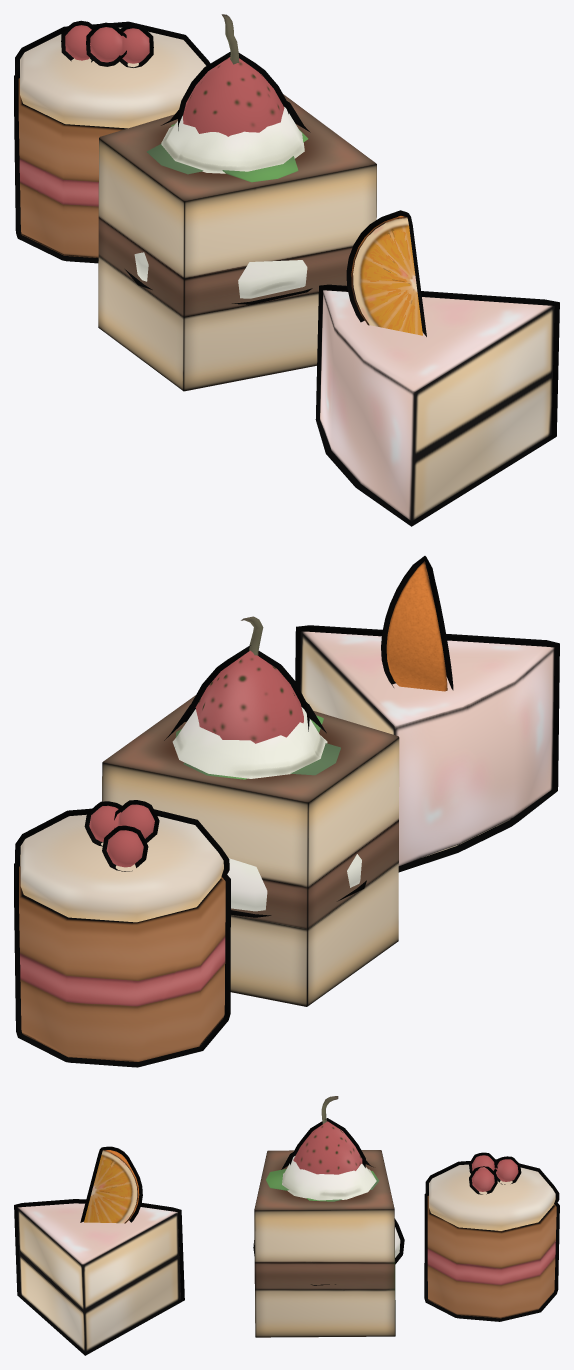
Rendered from Pastelito1.glb.
3 views of the same model, one above another, from view 1: azimuth 30°, elevation 25°; view 2: azimuth 150°, elevation 25°; view 3: azimuth 270°, elevation 25° (orthographic). The views are drawn at different scales.
Visible parts, largest first — view 1: Cake_strawberry_Cake_strawberry_0, Cake_orange_Outline_0, Souffle.001_Souffle_0, Cupcake_Outline_0; view 2: Cake_strawberry_Cake_strawberry_0, Souffle.001_Souffle_0, Cake_orange_Outline_0, Cupcake_Outline_0; view 3: Cake_strawberry_Cake_strawberry_0, Cake_orange_Outline_0, Souffle.001_Souffle_0, Cupcake_Outline_0.
Boxes of the visible parts, bbox=[...] form: Cake_strawberry_Cake_strawberry_0: bbox=[98, 51, 376, 391]; Cake_orange_Outline_0: bbox=[315, 210, 559, 526]; Souffle.001_Souffle_0: bbox=[14, 20, 210, 263]; Cupcake_Outline_0: bbox=[125, 14, 312, 304]; Cake_strawberry_Cake_strawberry_0: bbox=[102, 645, 399, 1006]; Souffle.001_Souffle_0: bbox=[14, 800, 230, 1067]; Cake_orange_Outline_0: bbox=[295, 556, 559, 872]; Cupcake_Outline_0: bbox=[164, 616, 366, 917]; Cake_strawberry_Cake_strawberry_0: bbox=[254, 1118, 395, 1337]; Cake_orange_Outline_0: bbox=[14, 1146, 184, 1355]; Souffle.001_Souffle_0: bbox=[424, 1152, 559, 1321]; Cupcake_Outline_0: bbox=[253, 1096, 404, 1285].
Bounding box in the file's own units: 2.58 × 3.31 × 7.47.
5 materials, 4 textured.
